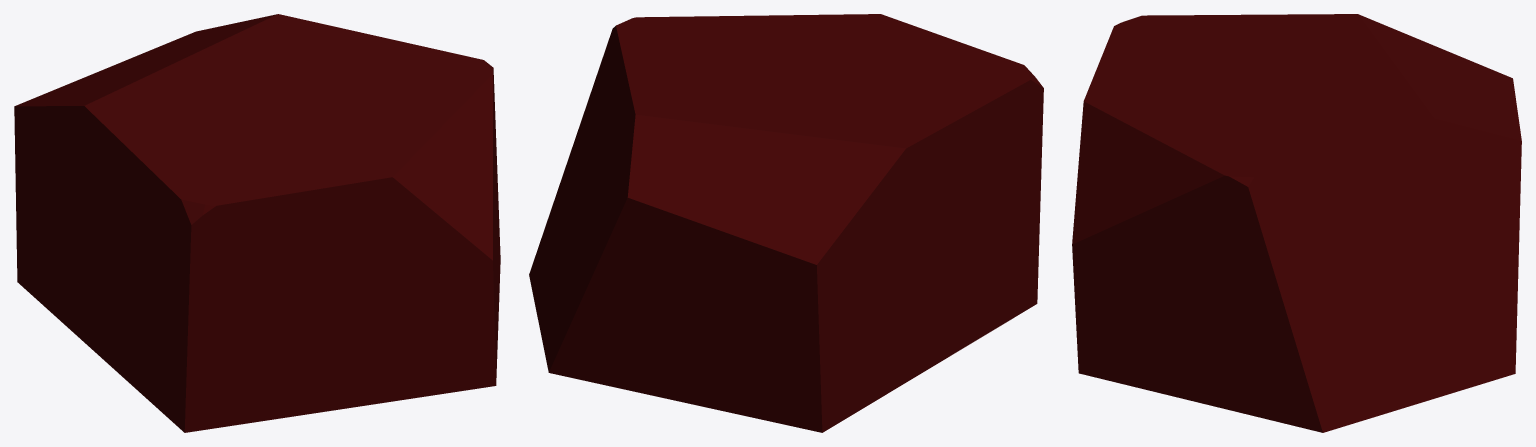
File: rock3.fbx
3 renders of one model, left to right at view 1: azimuth 30°, elevation 25°; view 2: azimuth 150°, elevation 25°; view 3: azimuth 270°, elevation 25°, orthographic. The views are drawn at different scales.
Visible parts, largest first — view 1: rock5:Mesh; view 2: rock5:Mesh; view 3: rock5:Mesh.
Boxes of the visible parts, bbox=[...] form: rock5:Mesh: bbox=[14, 14, 500, 432]; rock5:Mesh: bbox=[529, 14, 1043, 432]; rock5:Mesh: bbox=[1072, 14, 1521, 432].
Size of the model in its own units: 0.8364 by 0.4745 by 0.811.
